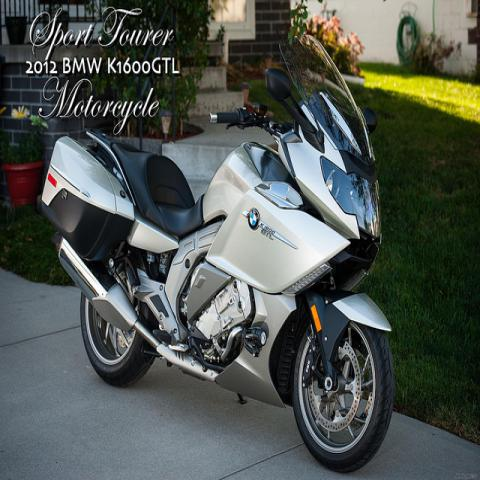motorcycle: (36, 30, 396, 472)
